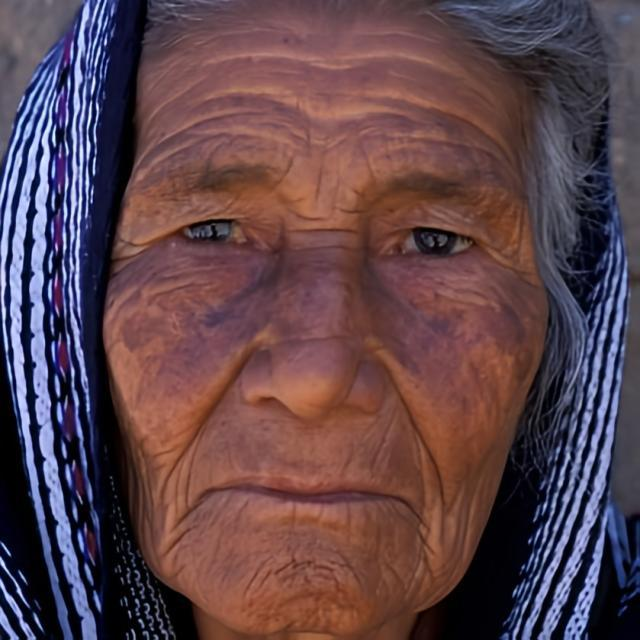sad: (90, 0, 552, 640)
